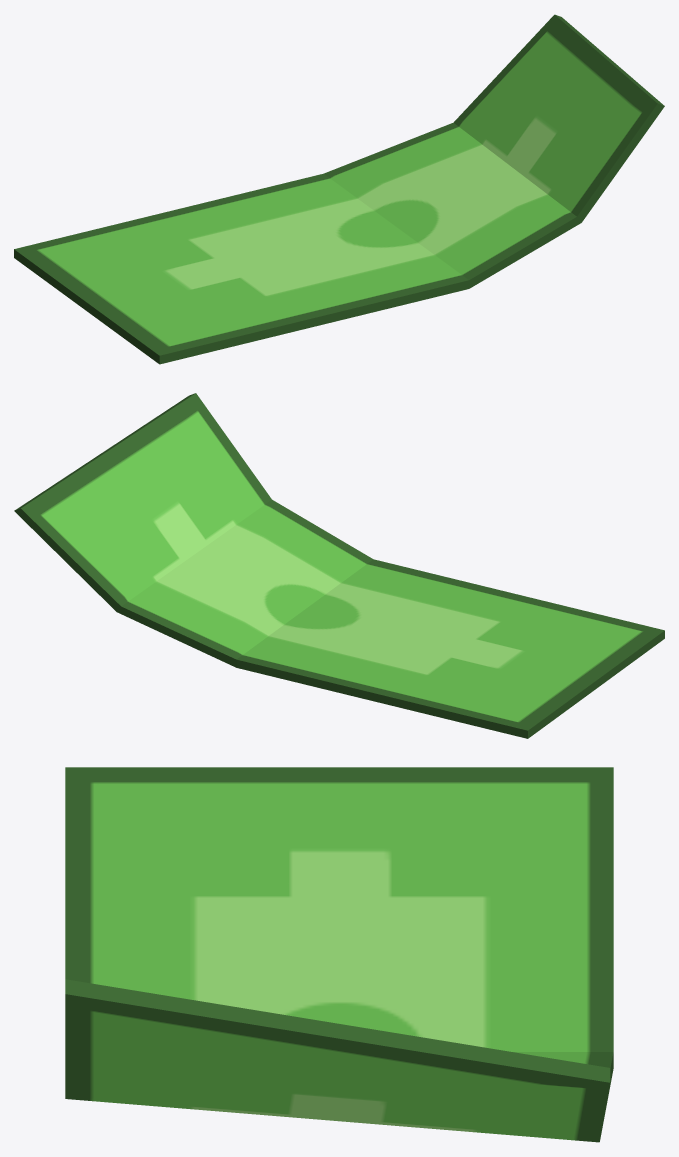
The model's file is FX_Money_Note_01.fbx.
3 renders of one model, top to bottom at view 1: azimuth 30°, elevation 25°; view 2: azimuth 150°, elevation 25°; view 3: azimuth 270°, elevation 25°, orthographic. The views are drawn at different scales.
Parts seen in each view (by area): view 1: FX_Money_Note_01; view 2: FX_Money_Note_01; view 3: FX_Money_Note_01.
Boxes of the visible parts, left/top/right/bottom form: FX_Money_Note_01: left=14, top=14, right=664, bottom=364; FX_Money_Note_01: left=14, top=393, right=664, bottom=738; FX_Money_Note_01: left=65, top=767, right=613, bottom=1142.
Size of the model in its own units: 24.16 by 5.88 by 11.14.
1 material, 1 textured.
